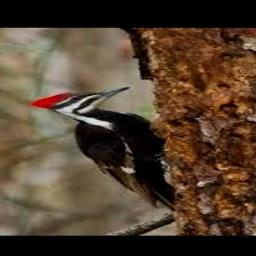Woodpecker: (32, 87, 177, 210)
